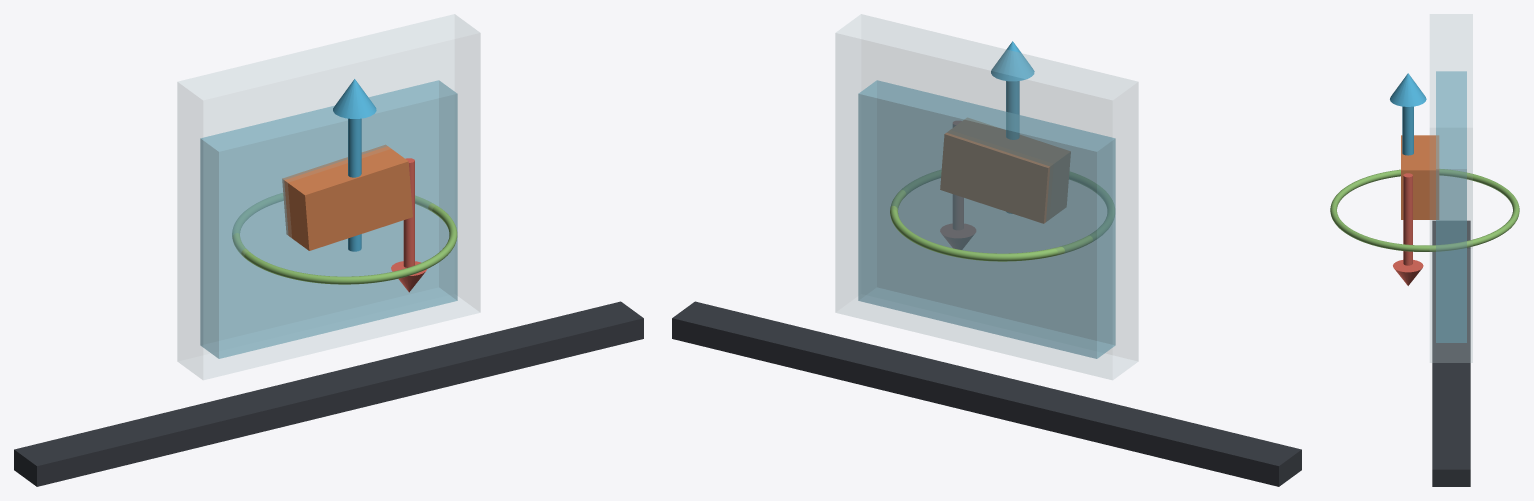
File: physics-fluids-buoyancy.glb
3 views of the same model, side by side, from view 1: azimuth 30°, elevation 25°; view 2: azimuth 150°, elevation 25°; view 3: azimuth 270°, elevation 25° (orthographic). The views are drawn at different scales.
Parts seen in each view (by area): view 1: buoyancy-tank-glass-back, buoyancy-tank-water-column, fluid-lab-bench, floating-object-hull-displacing-fluid, displaced-fluid-outline, upward-force-buoyancy-head, upward-force-buoyancy-shaft, object-weight-down-shaft; view 2: buoyancy-tank-glass-back, buoyancy-tank-water-column, fluid-lab-bench, floating-object-hull-displacing-fluid, displaced-fluid-outline, upward-force-buoyancy-head, upward-force-buoyancy-shaft; view 3: buoyancy-tank-glass-back, fluid-lab-bench, buoyancy-tank-water-column, displaced-fluid-outline, floating-object-hull-displacing-fluid, object-weight-down-shaft, upward-force-buoyancy-head, upward-force-buoyancy-shaft, object-weight-down-head.
Part boxes in pixels (x1,y1,x2,y2): buoyancy-tank-glass-back: (177, 14, 480, 379); buoyancy-tank-water-column: (200, 80, 457, 358); fluid-lab-bench: (14, 301, 643, 486); floating-object-hull-displacing-fluid: (282, 144, 412, 250); displaced-fluid-outline: (232, 193, 457, 284); upward-force-buoyancy-head: (333, 79, 376, 118); upward-force-buoyancy-shaft: (348, 118, 361, 251); object-weight-down-shaft: (403, 158, 414, 267); buoyancy-tank-glass-back: (835, 14, 1138, 379); buoyancy-tank-water-column: (858, 80, 1115, 358); fluid-lab-bench: (672, 301, 1301, 486); floating-object-hull-displacing-fluid: (940, 118, 1070, 223); displaced-fluid-outline: (890, 170, 1114, 261); upward-force-buoyancy-head: (991, 41, 1034, 81); upward-force-buoyancy-shaft: (1006, 81, 1019, 213); buoyancy-tank-glass-back: (1430, 14, 1472, 362); fluid-lab-bench: (1432, 220, 1470, 486); buoyancy-tank-water-column: (1436, 71, 1466, 342); displaced-fluid-outline: (1330, 169, 1519, 251); floating-object-hull-displacing-fluid: (1401, 135, 1439, 219); object-weight-down-shaft: (1403, 173, 1412, 265); upward-force-buoyancy-head: (1390, 73, 1426, 106); upward-force-buoyancy-shaft: (1402, 106, 1413, 155); object-weight-down-head: (1393, 260, 1423, 285).
Size of what is drawn, in the model's own units: 2.45 by 1.34 by 0.788.
